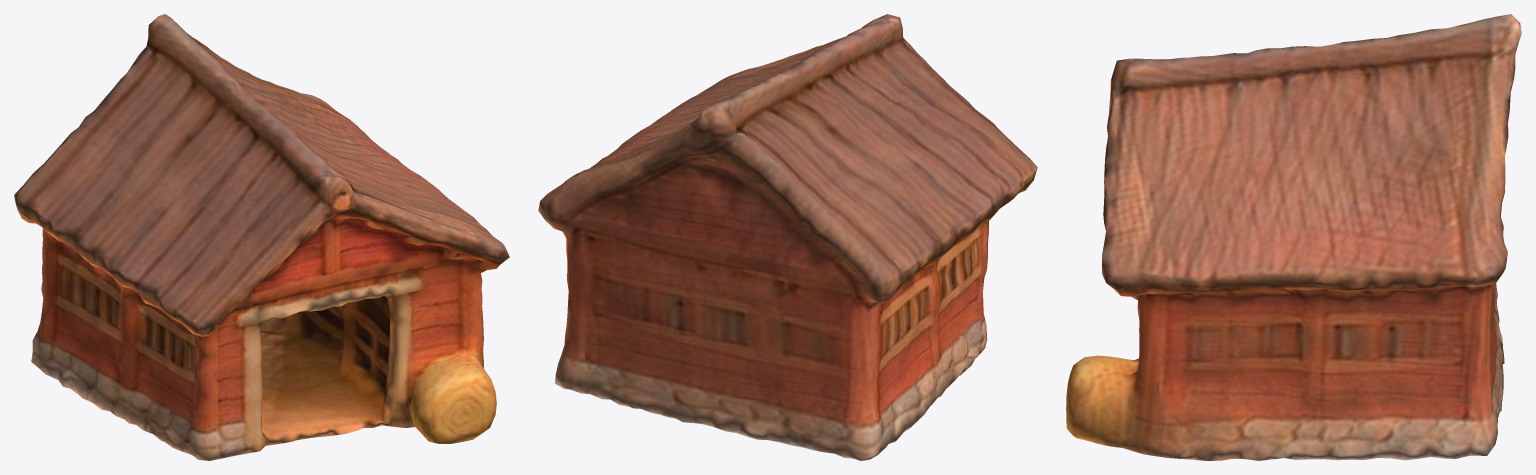
File: barn.glb
3 views of the same model, side by side, from view 1: azimuth 30°, elevation 25°; view 2: azimuth 150°, elevation 25°; view 3: azimuth 270°, elevation 25° (orthographic). The views are drawn at different scales.
Parts seen in each view (by area): view 1: world; view 2: world; view 3: world.
Part boxes in pixels (<box>): world: <box>14,14,509,460</box>; world: <box>538,14,1037,460</box>; world: <box>1066,14,1521,460</box>.
Size of the model in its own units: 3.03 by 2.7 by 3.12.
Materials: 1 (1 with a texture image).
